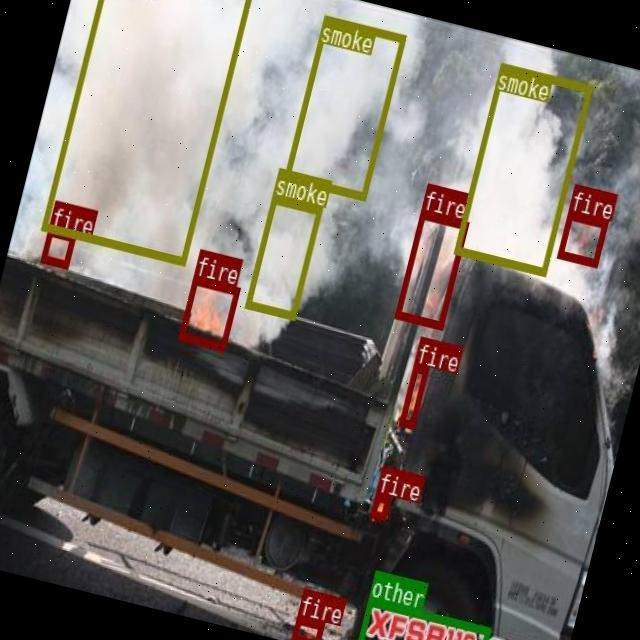fire: (394, 209, 468, 327), (178, 275, 240, 350), (556, 209, 608, 266), (398, 362, 428, 428), (40, 226, 74, 266), (290, 614, 323, 640), (369, 490, 390, 520)
smoke: (41, 0, 252, 263), (453, 61, 592, 275), (283, 13, 405, 199), (243, 194, 322, 318)
